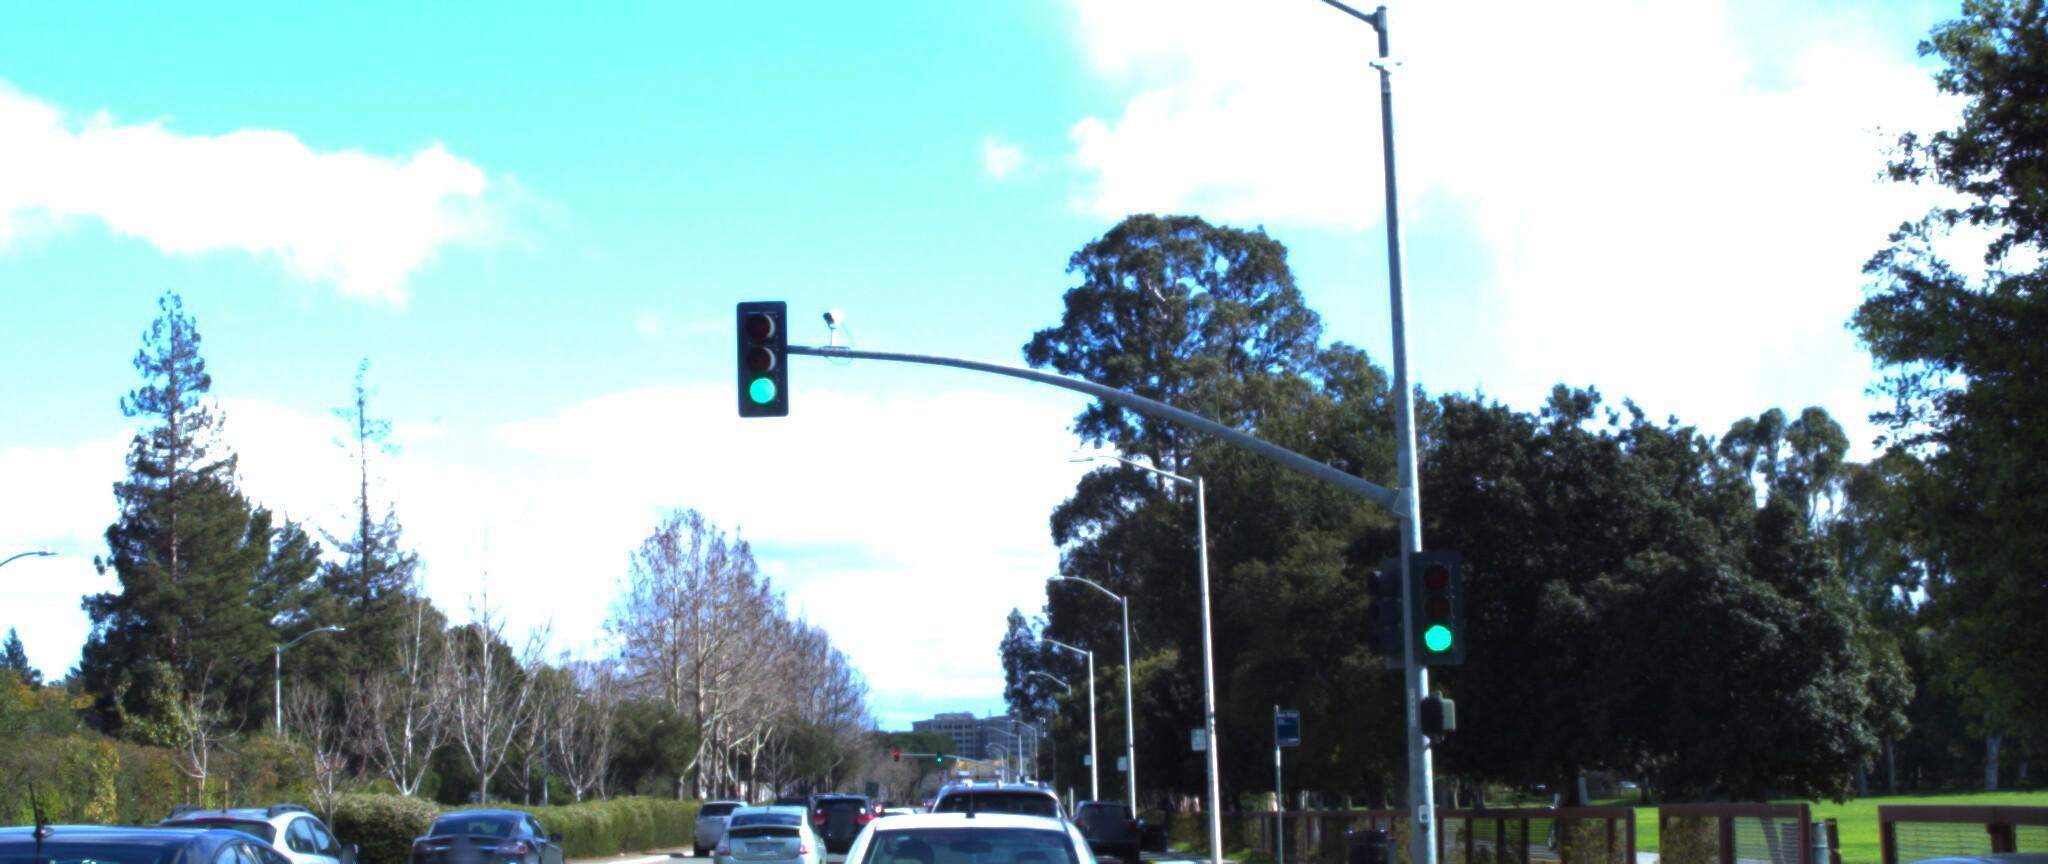car: (784, 724, 1147, 864), (0, 764, 436, 864), (91, 765, 396, 864), (1617, 807, 2048, 864), (952, 717, 1108, 864), (405, 767, 579, 864), (0, 769, 115, 864), (709, 774, 829, 864), (1058, 770, 1155, 841), (815, 766, 896, 841)
